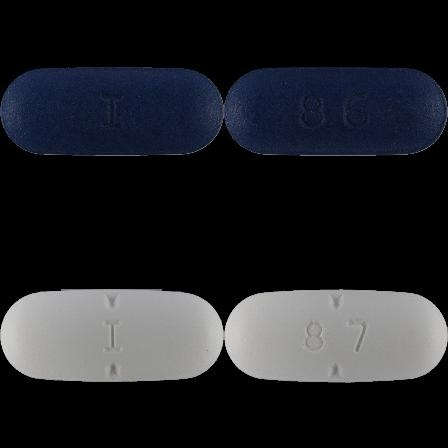31722-704: (0, 0, 224, 224)
